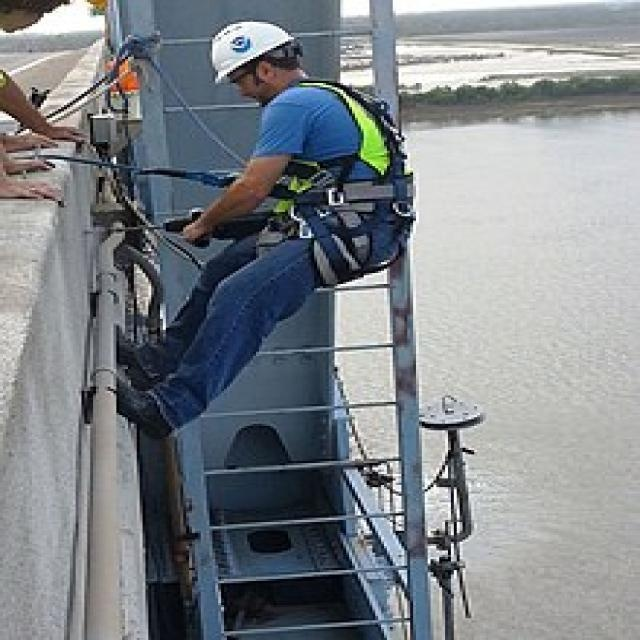Arnes_seguridad: (222, 70, 426, 290)
